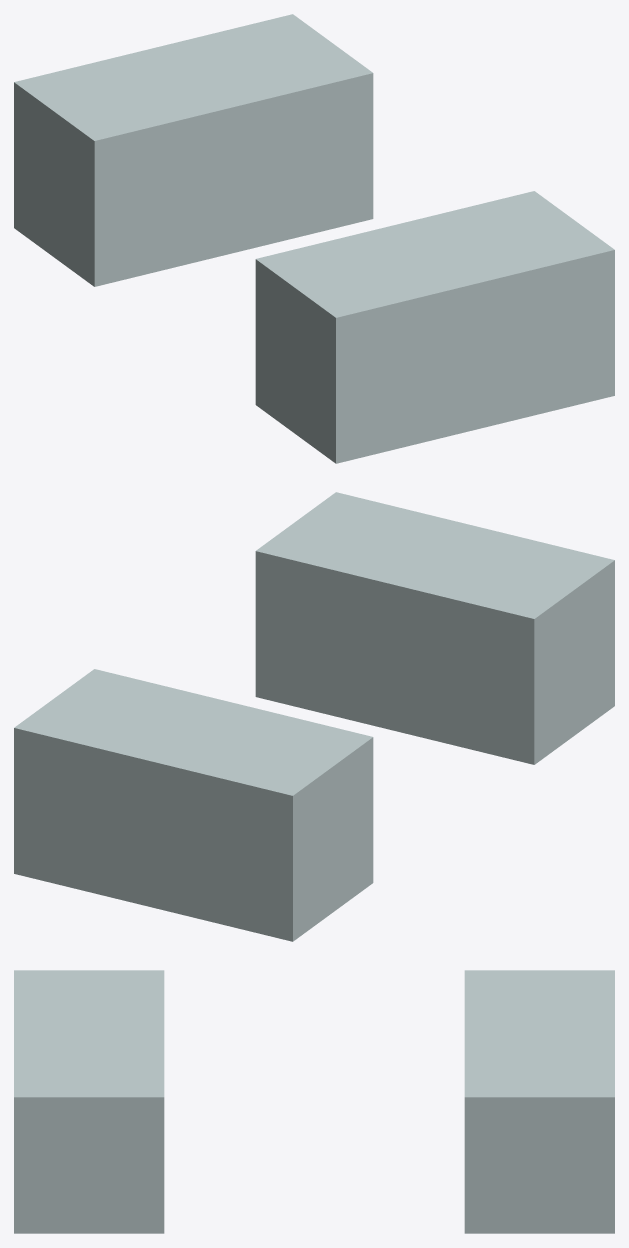
File: Saleevs.1.fbx
The picture shows the model from 3 angles, top to bottom: view 1: azimuth 30°, elevation 25°; view 2: azimuth 150°, elevation 25°; view 3: azimuth 270°, elevation 25°; orthographic projection. The views are drawn at different scales.
Parts seen in each view (by area): view 1: Saleevs.1; view 2: Saleevs.1; view 3: Saleevs.1.
Part boxes in pixels (x1,y1,x2,y2): Saleevs.1: (14, 14, 614, 463); Saleevs.1: (14, 492, 614, 941); Saleevs.1: (14, 970, 614, 1233).
Bounding box in the file's own units: 20 × 10 × 40.
Materials: 1 (1 with a texture image).
